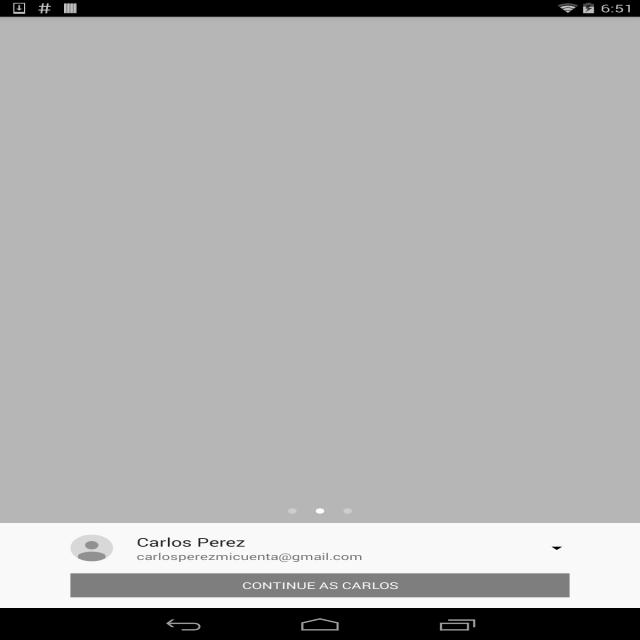Button: (66, 570, 575, 600)
ImageButton: (544, 540, 569, 555)
ImageView: (64, 532, 118, 564)
TextView: (132, 533, 366, 563)
